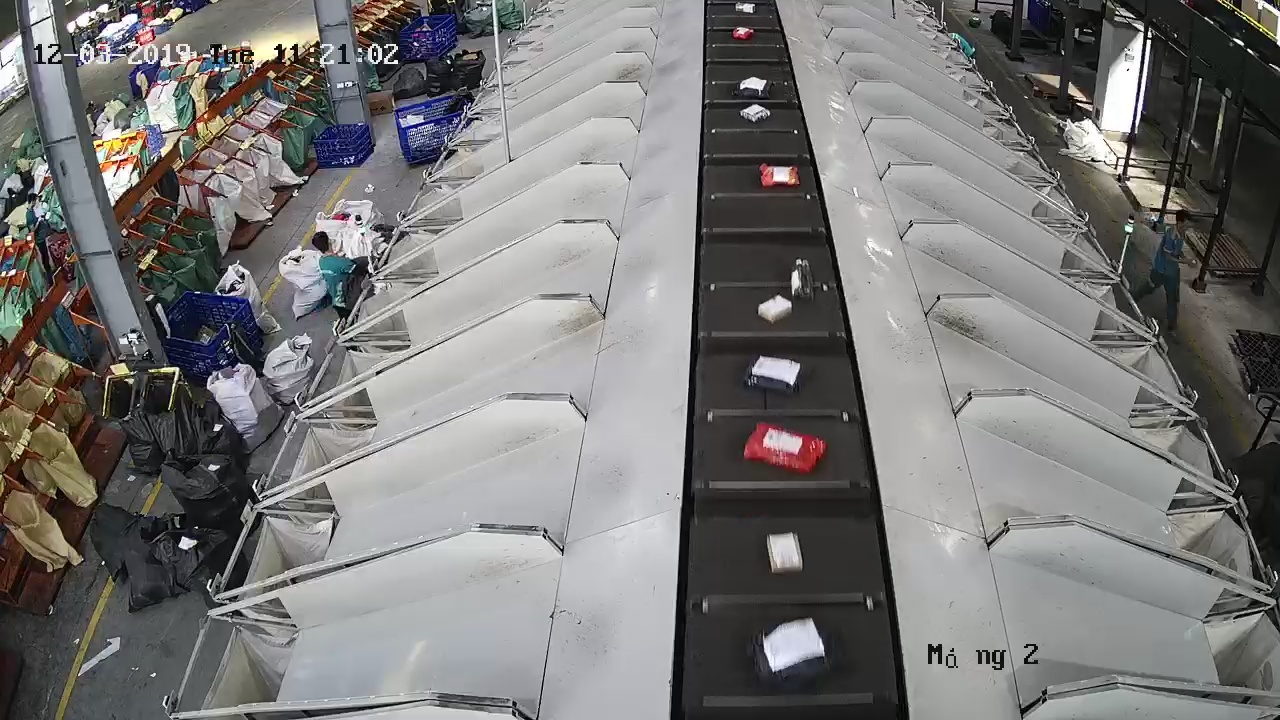parcel: (745, 615, 834, 687), (742, 421, 827, 477), (743, 353, 803, 396), (765, 530, 804, 575), (758, 161, 801, 190), (738, 102, 773, 124)
